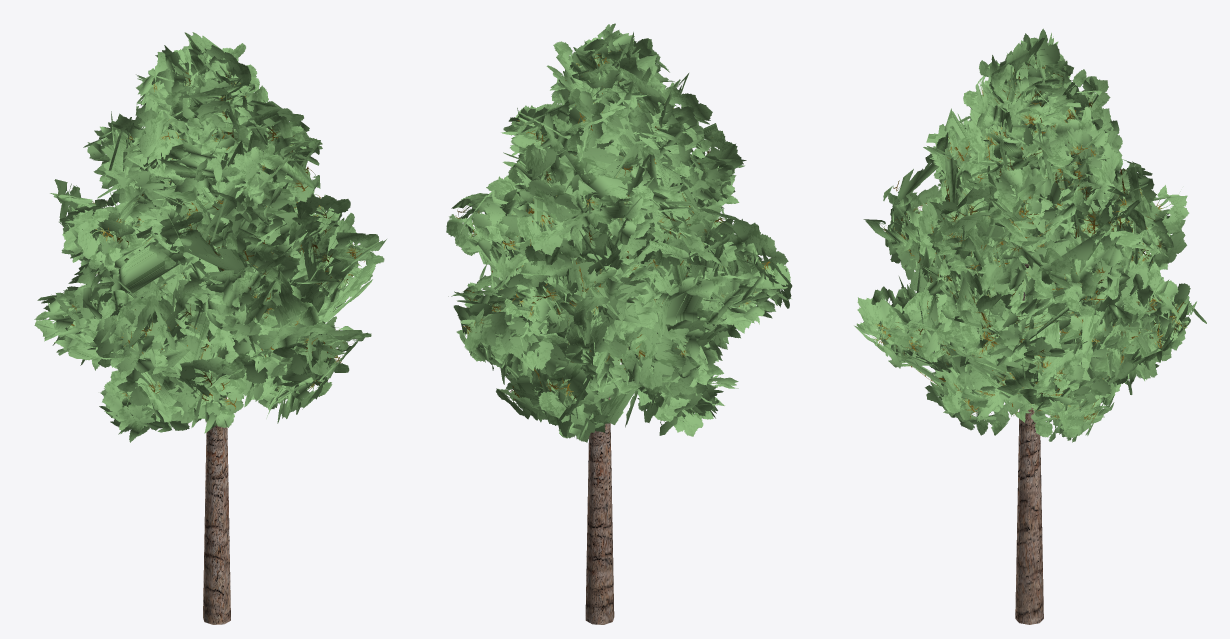
The model's file is Tree 3.fbx.
3 renders of one model, left to right at view 1: azimuth 30°, elevation 25°; view 2: azimuth 150°, elevation 25°; view 3: azimuth 270°, elevation 25°, orthographic. The views are drawn at different scales.
Parts seen in each view (by area): view 1: Tree.002; view 2: Tree.002; view 3: Tree.002.
Boxes of the visible parts, x1,y1,x2,y2 form: Tree.002: [34, 32, 386, 624]; Tree.002: [446, 23, 792, 624]; Tree.002: [854, 28, 1206, 624].
Size of the model in its own units: 1149 by 2031 by 1179.
